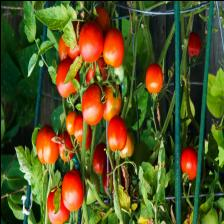tomato: (54, 57, 79, 103), (78, 19, 102, 63), (80, 82, 104, 124), (102, 25, 124, 69), (60, 168, 82, 212), (35, 124, 58, 166), (106, 114, 126, 156), (144, 62, 162, 98), (180, 145, 197, 181)
